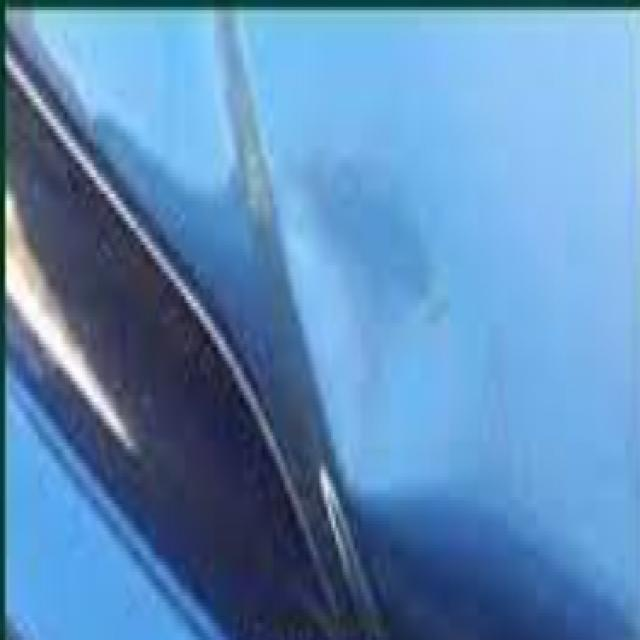dents: (266, 121, 454, 368)
